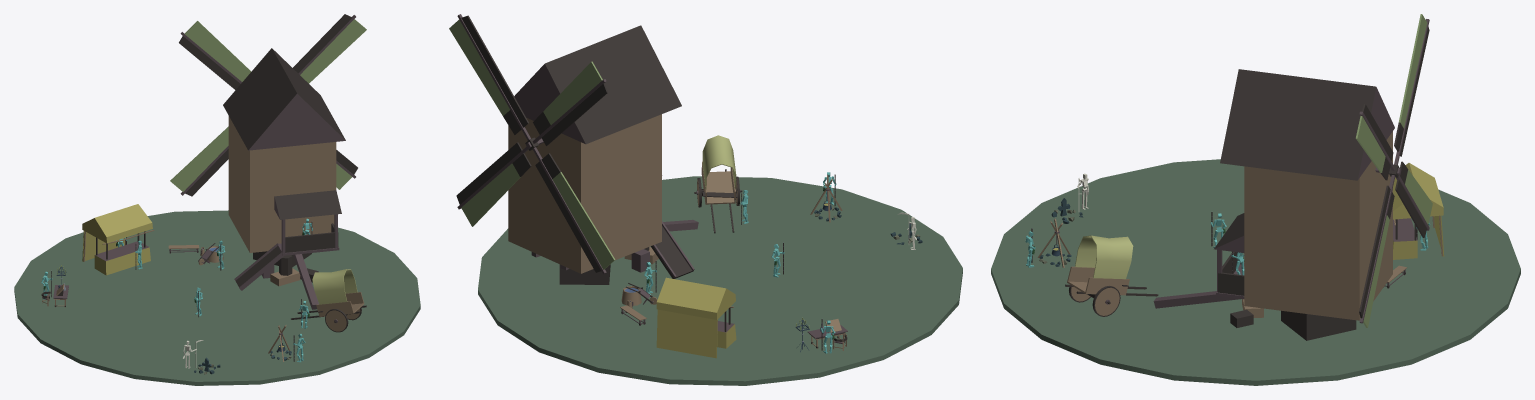
File: windmill_b09a4903.glb
The picture shows the model from 3 angles, left to right: view 1: azimuth 30°, elevation 25°; view 2: azimuth 150°, elevation 25°; view 3: azimuth 270°, elevation 25°; orthographic projection. The views are drawn at different scales.
Visible parts, largest first — view 1: floor, mill, kiosk, cart, desk, kettle, tub, cross; view 2: floor, mill, kiosk, cart, desk, tub, kettle; view 3: floor, mill, cart, kiosk, kettle, cross.
Part boxes in pixels (left/top/right/bottom): floor: left=14, top=210, right=420, bottom=385; mill: left=170, top=14, right=366, bottom=309; kiosk: left=82, top=204, right=154, bottom=275; cart: left=291, top=269, right=366, bottom=332; desk: left=41, top=265, right=68, bottom=307; kettle: left=268, top=325, right=305, bottom=362; tub: left=198, top=240, right=225, bottom=270; cross: left=182, top=340, right=220, bottom=374; floor: left=478, top=176, right=962, bottom=385; mill: left=449, top=14, right=698, bottom=284; kiosk: left=656, top=277, right=736, bottom=358; cart: left=694, top=135, right=748, bottom=233; desk: left=795, top=317, right=847, bottom=353; tub: left=621, top=261, right=657, bottom=305; kettle: left=810, top=172, right=842, bottom=222; floor: left=991, top=159, right=1520, bottom=385; mill: left=1153, top=14, right=1432, bottom=340; cart: left=1065, top=235, right=1158, bottom=316; kiosk: left=1393, top=163, right=1444, bottom=259; kettle: left=1025, top=218, right=1071, bottom=267; cross: left=1051, top=173, right=1088, bottom=223.
Bounding box in the file's own units: 47.73 × 27.7 × 46.24.
